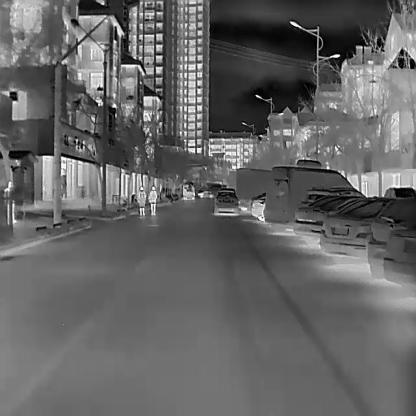car: (267, 162, 355, 237), (367, 194, 416, 285), (316, 194, 385, 258), (292, 194, 361, 238), (226, 168, 275, 212), (306, 184, 362, 205), (213, 184, 239, 217), (250, 191, 271, 220), (135, 185, 146, 216), (147, 184, 157, 216), (182, 182, 195, 199), (198, 189, 213, 199)
